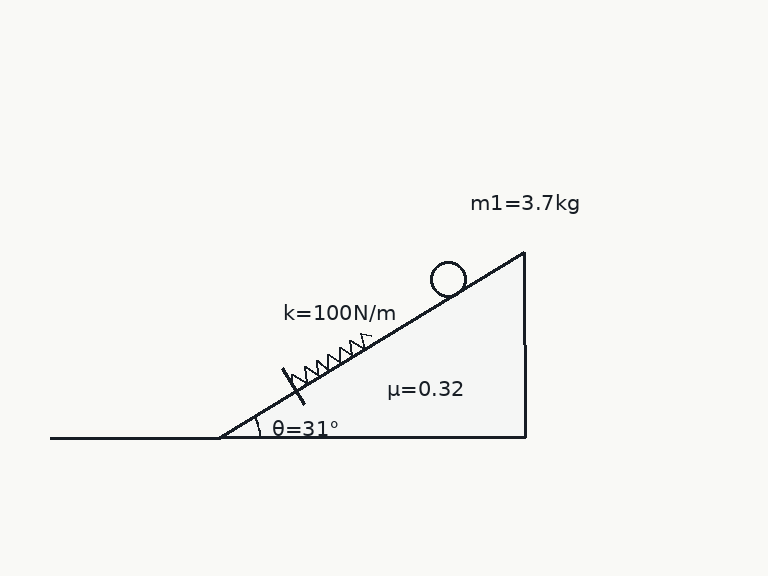ball: (428, 259, 468, 299)
ramp: (218, 252, 527, 439)
spring: (290, 331, 373, 385)
